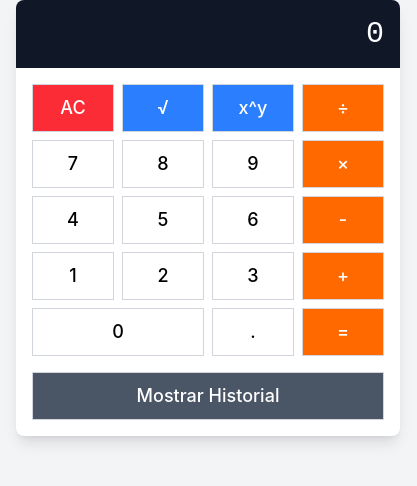
Scenario: Calculator Component › muestra errores correctamente
This screenshot has width=417, height=486.
Click the button with test id "btn-5".
click(163, 220)  # box [122,196,204,244]
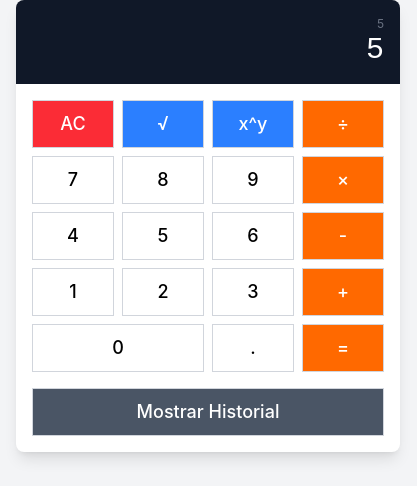
Click the button with test id "btn-divide".
click(343, 124)  # box [302,100,384,148]
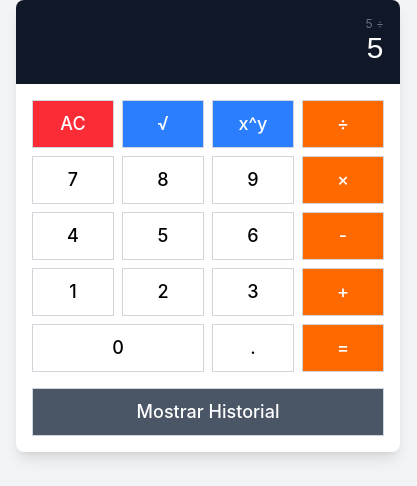
Click the button with test id "btn-0".
click(118, 348)  # box [32,324,204,372]
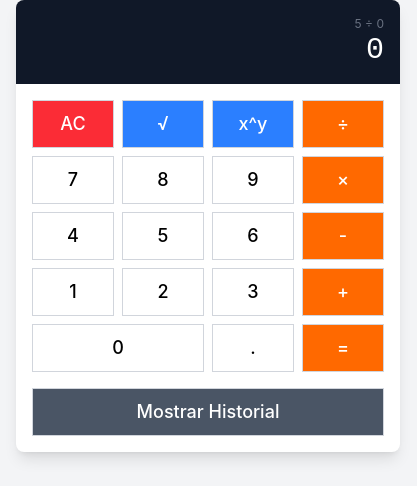
Click the button with test id "btn-equals".
click(343, 348)  # box [302,324,384,372]
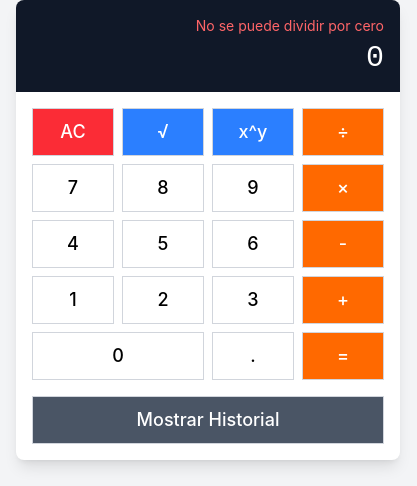
Check: the text "No se puede dividir por cero" is shown, box [196,17,384,34]
